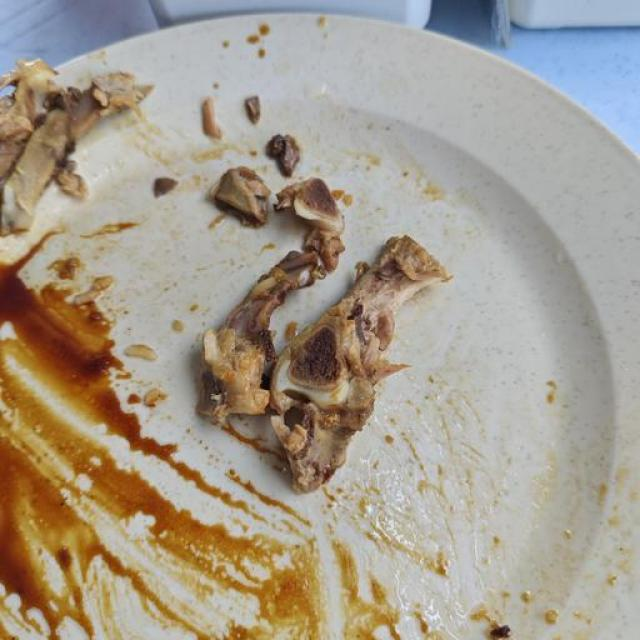organic: (185, 84, 456, 548)
